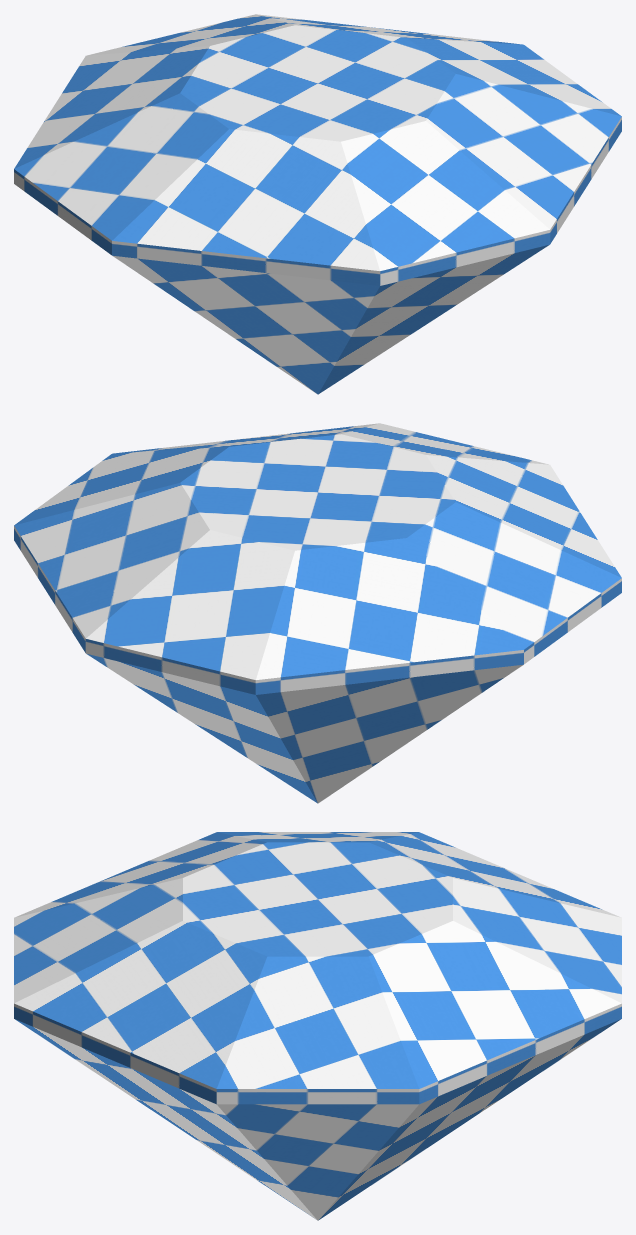
File: OldSingleCutPointy.FBX
3 renders of one model, top to bottom at view 1: azimuth 30°, elevation 25°; view 2: azimuth 150°, elevation 25°; view 3: azimuth 270°, elevation 25°, orthographic. The views are drawn at different scales.
Parts seen in each view (by area): view 1: OldSingleCutPointy; view 2: OldSingleCutPointy; view 3: OldSingleCutPointy.
Boxes of the visible parts, bbox=[...] form: OldSingleCutPointy: bbox=[14, 14, 621, 394]; OldSingleCutPointy: bbox=[14, 423, 621, 803]; OldSingleCutPointy: bbox=[14, 832, 621, 1220].
Size of the model in its own units: 1.14 by 0.6667 by 1.14.
